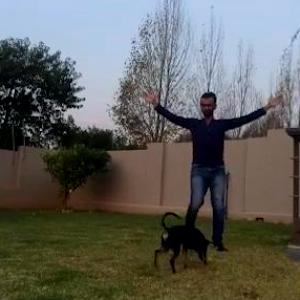takeoff: (141, 76, 299, 262)
